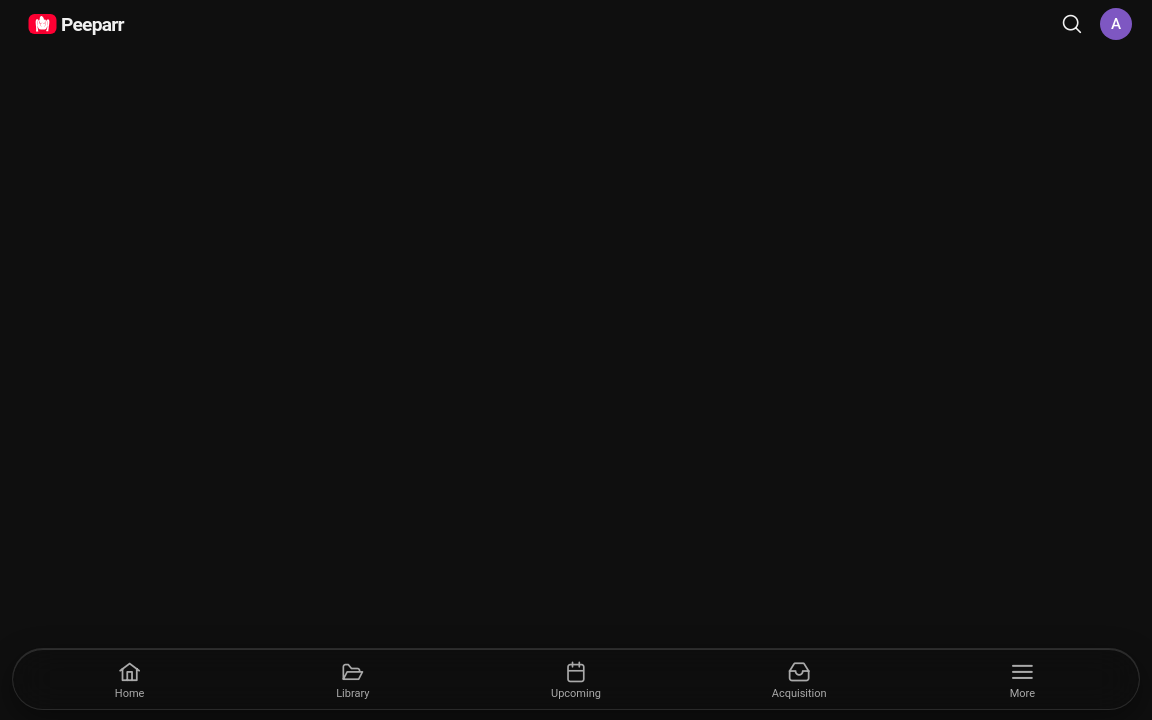
Test case: AppShellLayoutComponent › renders a bottom navigation on phones and exposes secondary destinations from More
Expected: the navigation bar with test id "mobile-bottom-nav" is shown, [12,648,1140,710]
Click the button with test id "mobile-more-trigger".
click(1022, 679)  # box [911,654,1134,704]
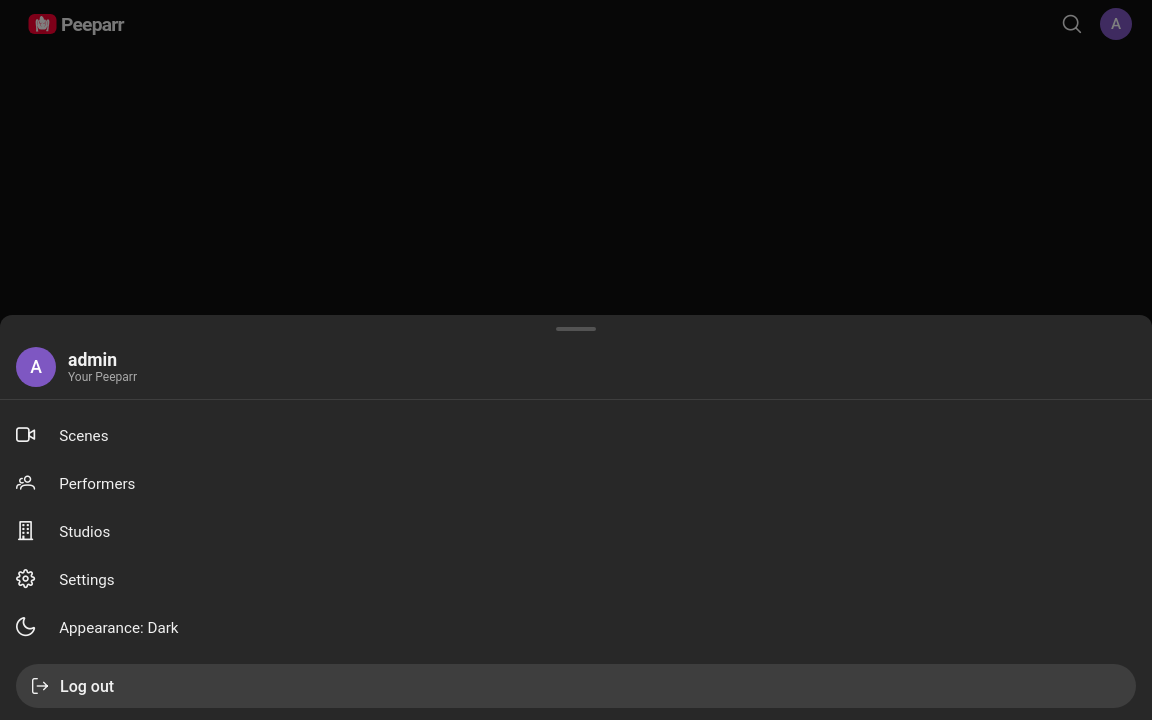
Expected: the element with test id "mobile-more-sheet" is shown, [0,315,1151,719]
Expected: the element with test id "mobile-more-sheet" shows "Scenes", [0,412,1151,460]
Expected: the element with test id "mobile-more-sheet" shows "Performers", [0,460,1151,508]
